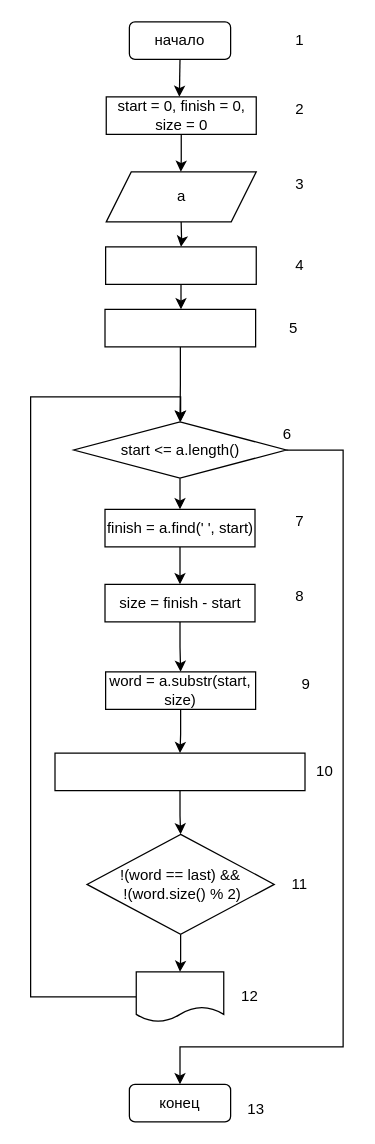
Image size: 375x1144. Some labels were removed from this diagram. The box of each missing label's shape, as (x1, y1, x2, y2) in pixels:
b = a.find_last_of(' ');: (104, 246, 256, 284)
start = a.find_first_not_of(' ', finish): (54, 752, 305, 791)
string last = a.substr(++b),word;: (104, 308, 256, 347)
word: (135, 971, 224, 1022)
